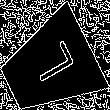L_SW: (22, 41, 76, 92)
